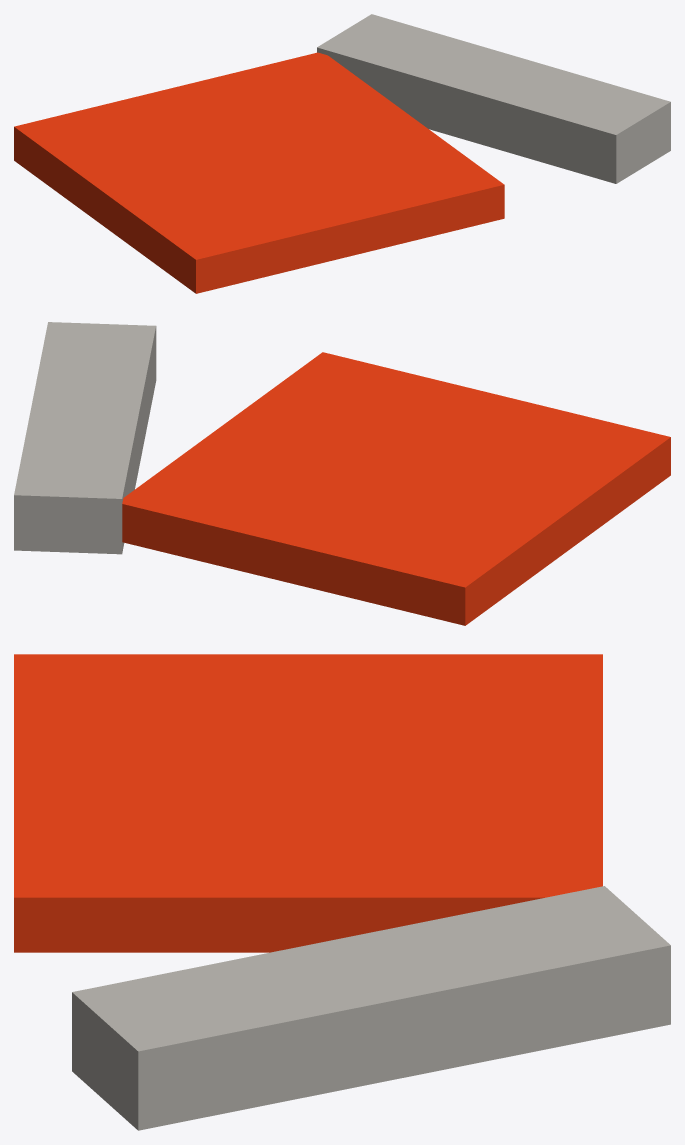
Rendered from DirectorsObject.fbx.
3 views of the same model, one above another, from view 1: azimuth 30°, elevation 25°; view 2: azimuth 150°, elevation 25°; view 3: azimuth 270°, elevation 25° (orthographic). The views are drawn at different scales.
Parts seen in each view (by area): view 1: DirectorsObject; view 2: DirectorsObject; view 3: DirectorsObject.
Part boxes in pixels (box(x1,y1,x2,y2)): DirectorsObject: box(14, 14, 670, 293); DirectorsObject: box(14, 322, 670, 625); DirectorsObject: box(14, 654, 670, 1130).
Bounding box in the file's own units: 0.4487 × 0.0409 × 0.3076.
